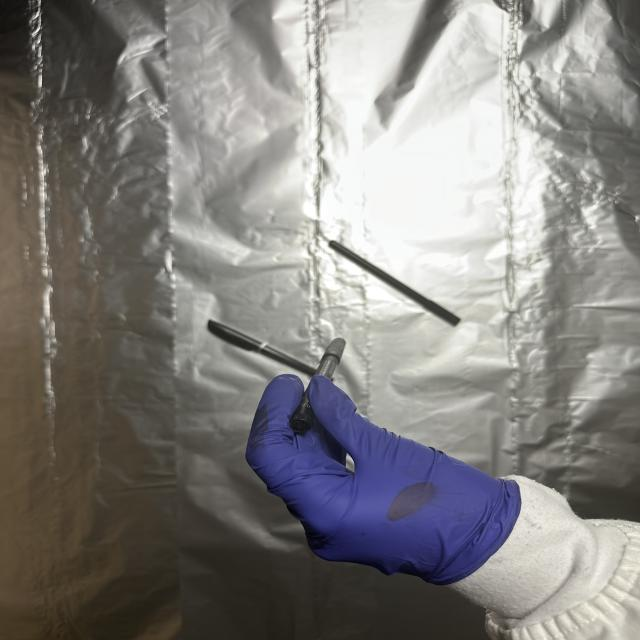gloves_contaminated: (247, 376, 521, 585)
